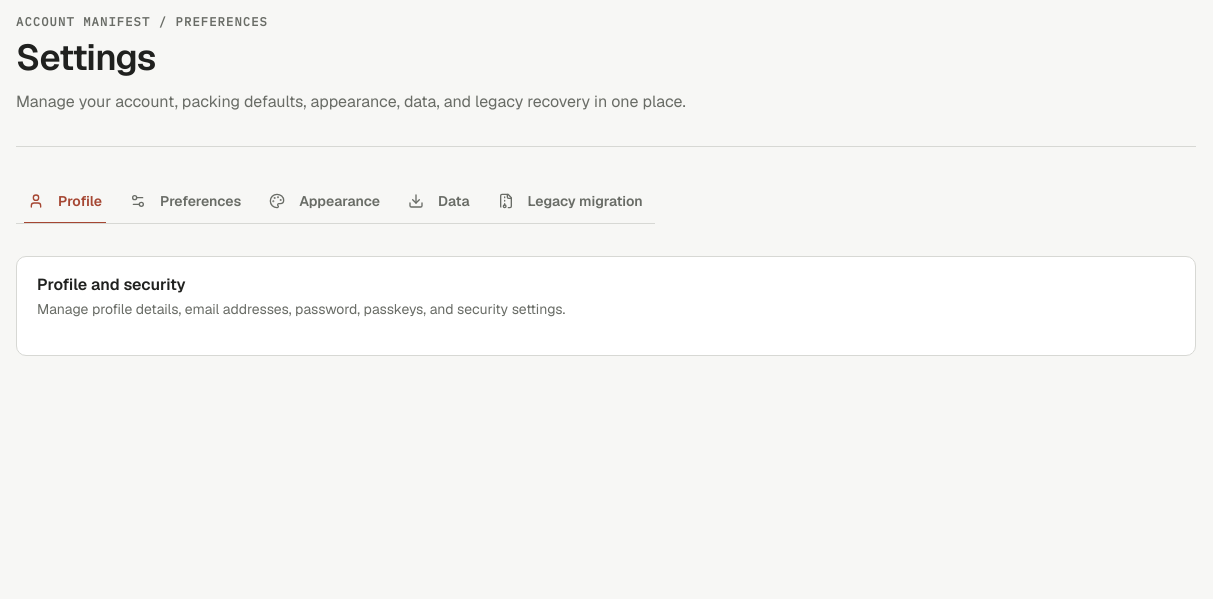
SettingsPage › blocks preference edits, saving, and account export while preferences are unresolved
Click the tab "Preferences". click: (186, 201)
box: [118, 179, 253, 223]
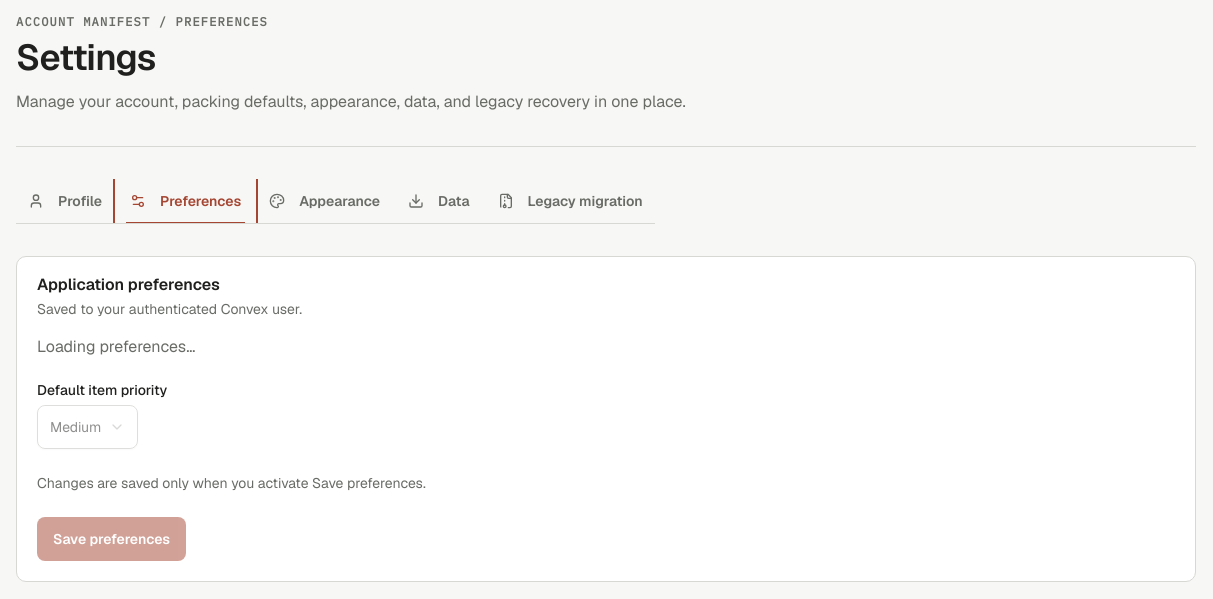
Check: the dropdown named "Default item priority" is disabled, box [37, 405, 138, 449]
Check: the button "Save preferences" is disabled
Click the button "Save preferences". click: (112, 539)
box: [37, 517, 186, 561]
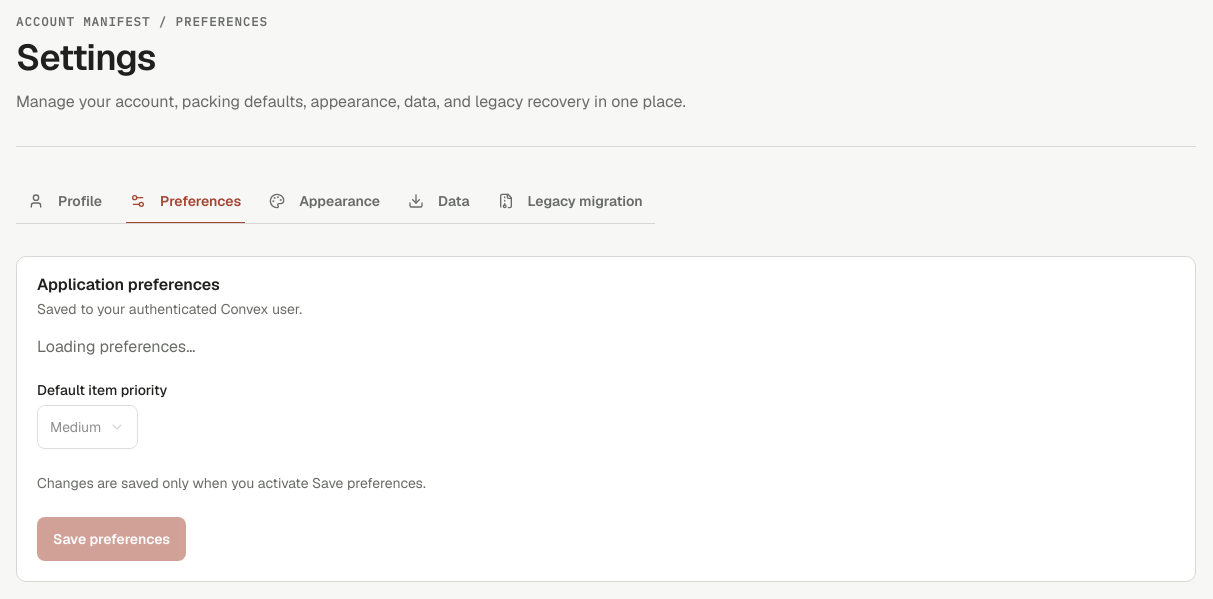
Click the tab "Appearance". click: (325, 201)
box: [257, 179, 392, 223]
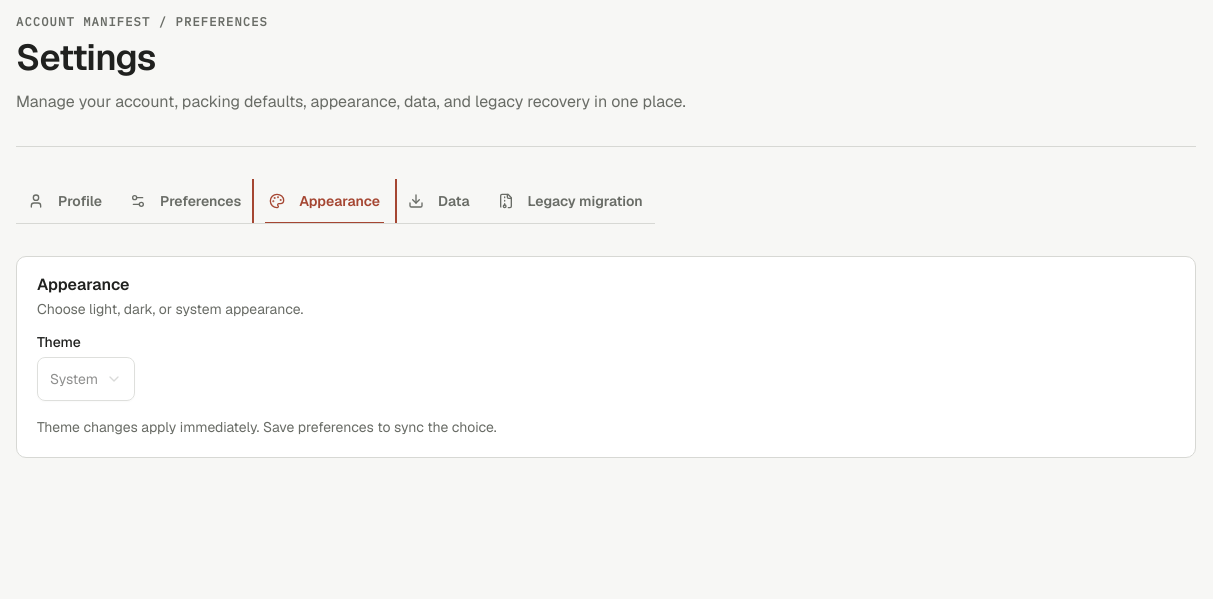
Check: the dropdown named "Theme" is disabled, box [37, 357, 135, 401]
Click the tab "Data". click: (439, 201)
box: [396, 179, 482, 223]
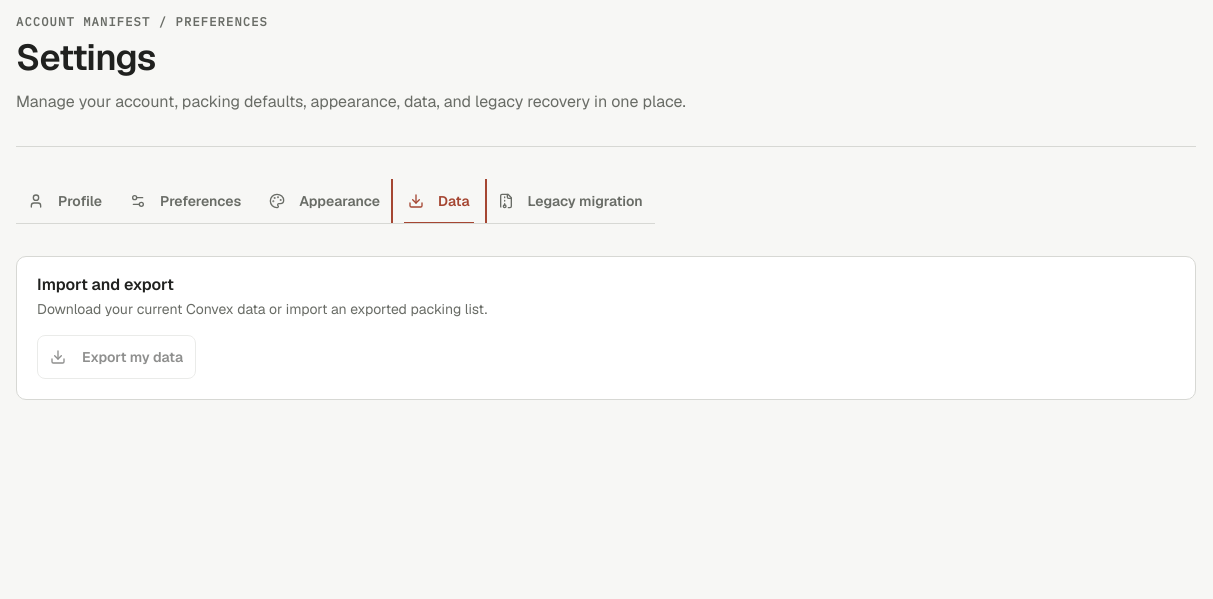
Check: the button "Export my data" is disabled, box [37, 335, 196, 379]
